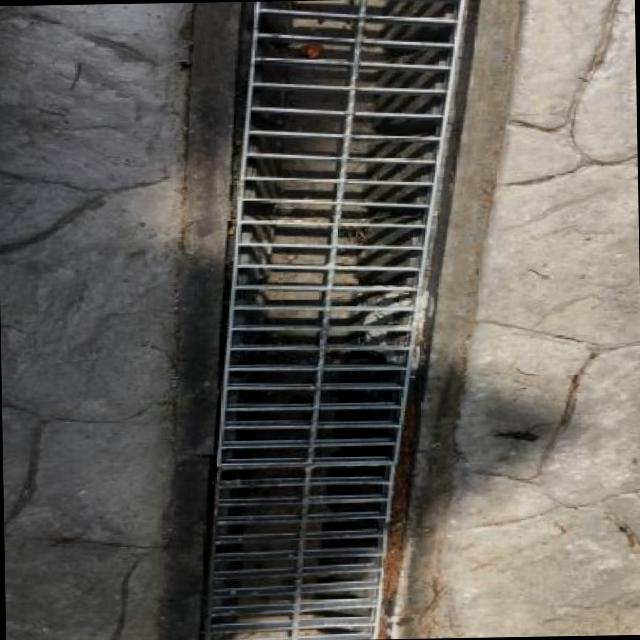drain-clean-: (162, 290, 560, 617)
